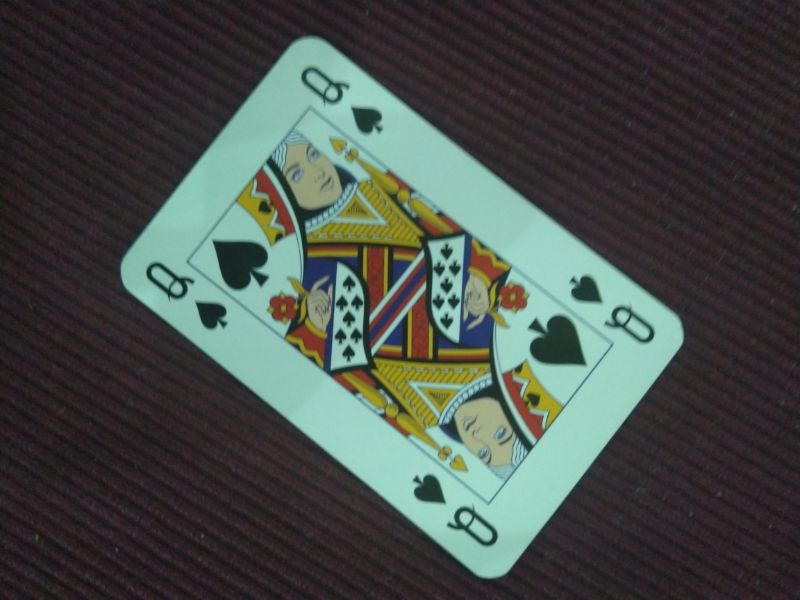Qs: (409, 468, 501, 548), (567, 268, 657, 345), (143, 258, 233, 332), (299, 63, 386, 139)
